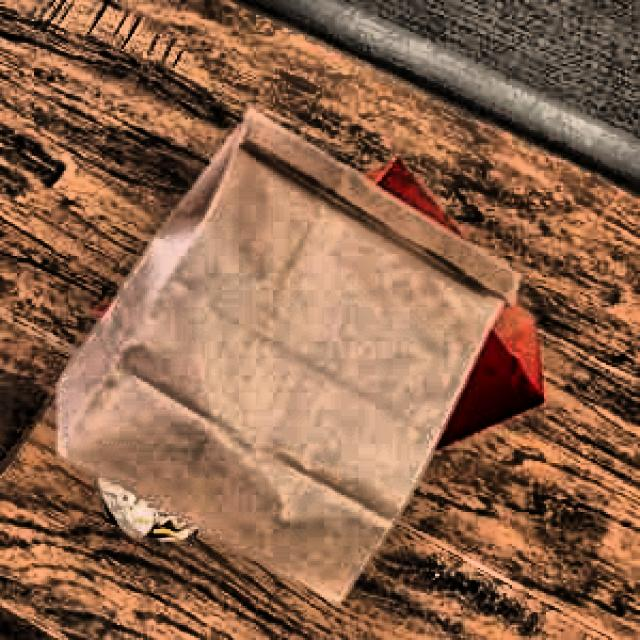Paper-bag: (32, 107, 516, 610)
